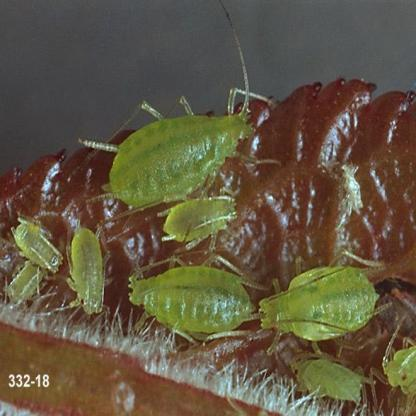aphid: (84, 39, 270, 208), (120, 235, 266, 342), (257, 251, 395, 353), (286, 342, 378, 416), (58, 217, 112, 329), (158, 187, 242, 252), (9, 212, 66, 276), (9, 251, 49, 325), (382, 324, 416, 404)
